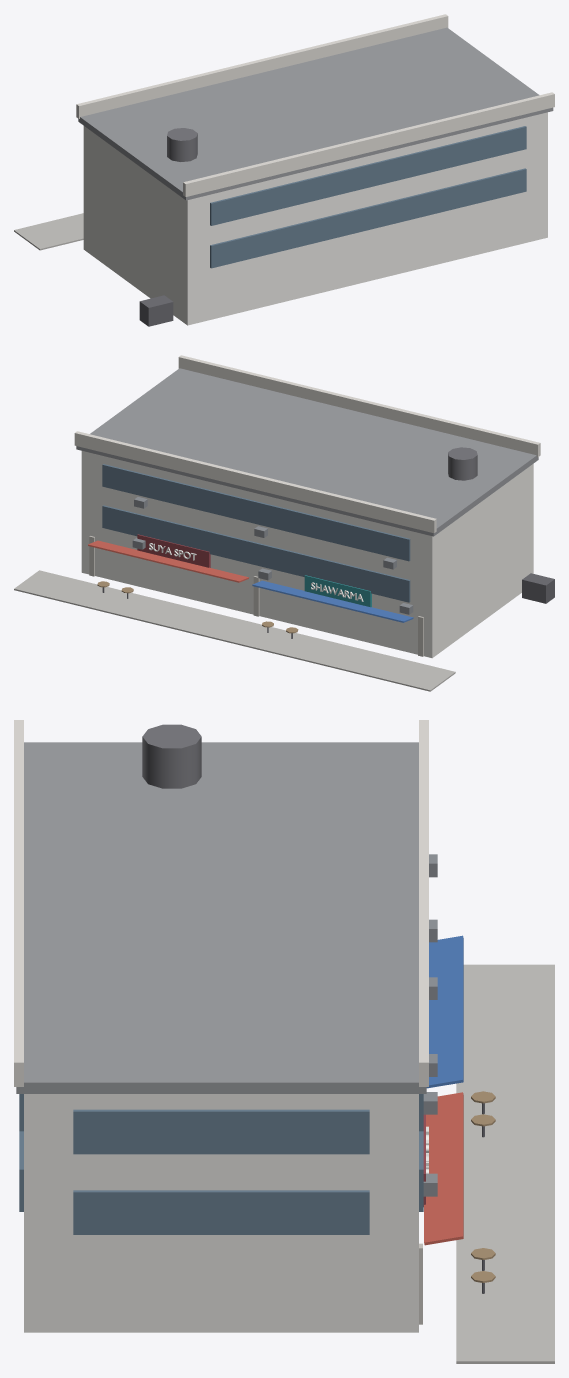
The model's file is wuse_block_2.glb.
The picture shows the model from 3 angles, top to bottom: view 1: azimuth 30°, elevation 25°; view 2: azimuth 150°, elevation 25°; view 3: azimuth 270°, elevation 25°; orthographic projection. The views are drawn at different scales.
Parts seen in each view (by area): view 1: BLD_wuse_block_2; view 2: BLD_wuse_block_2; view 3: BLD_wuse_block_2.
Part boxes in pixels (x1,y1,x2,y2): BLD_wuse_block_2: [14, 14, 554, 326]; BLD_wuse_block_2: [14, 355, 554, 691]; BLD_wuse_block_2: [14, 720, 554, 1363].
Bounding box in the file's own units: 38 × 13.1 × 21.9.
